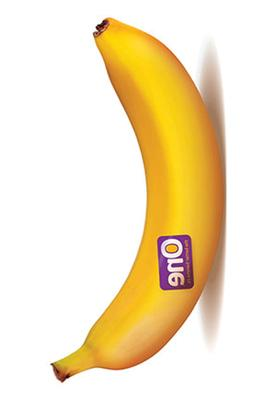banana: (0, 0, 278, 400)
